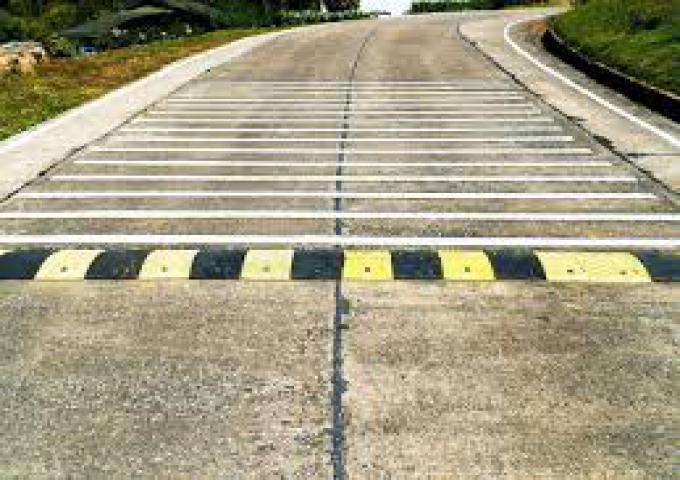speedbreaker: (0, 217, 678, 312)
